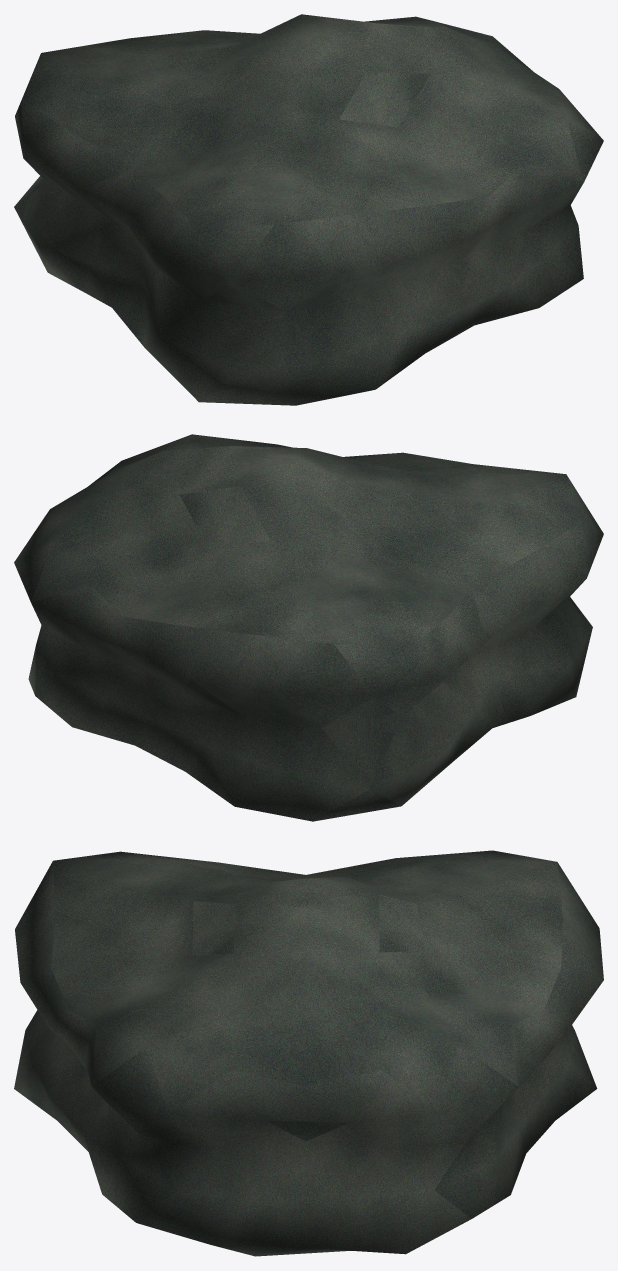
Rendered from roca_naufragio.fbx.
3 views of the same model, one above another, from view 1: azimuth 30°, elevation 25°; view 2: azimuth 150°, elevation 25°; view 3: azimuth 270°, elevation 25° (orthographic). The views are drawn at different scales.
Visible parts, largest first — view 1: roca_naufragio; view 2: roca_naufragio; view 3: roca_naufragio.
Boxes of the visible parts, box(x1,y1,x2,y2) form: roca_naufragio: box(14, 14, 603, 405); roca_naufragio: box(14, 434, 603, 821); roca_naufragio: box(14, 850, 603, 1256).
Bounding box in the file's own units: 2.85 × 1.87 × 2.99.
Materials: 1 (1 with a texture image).
